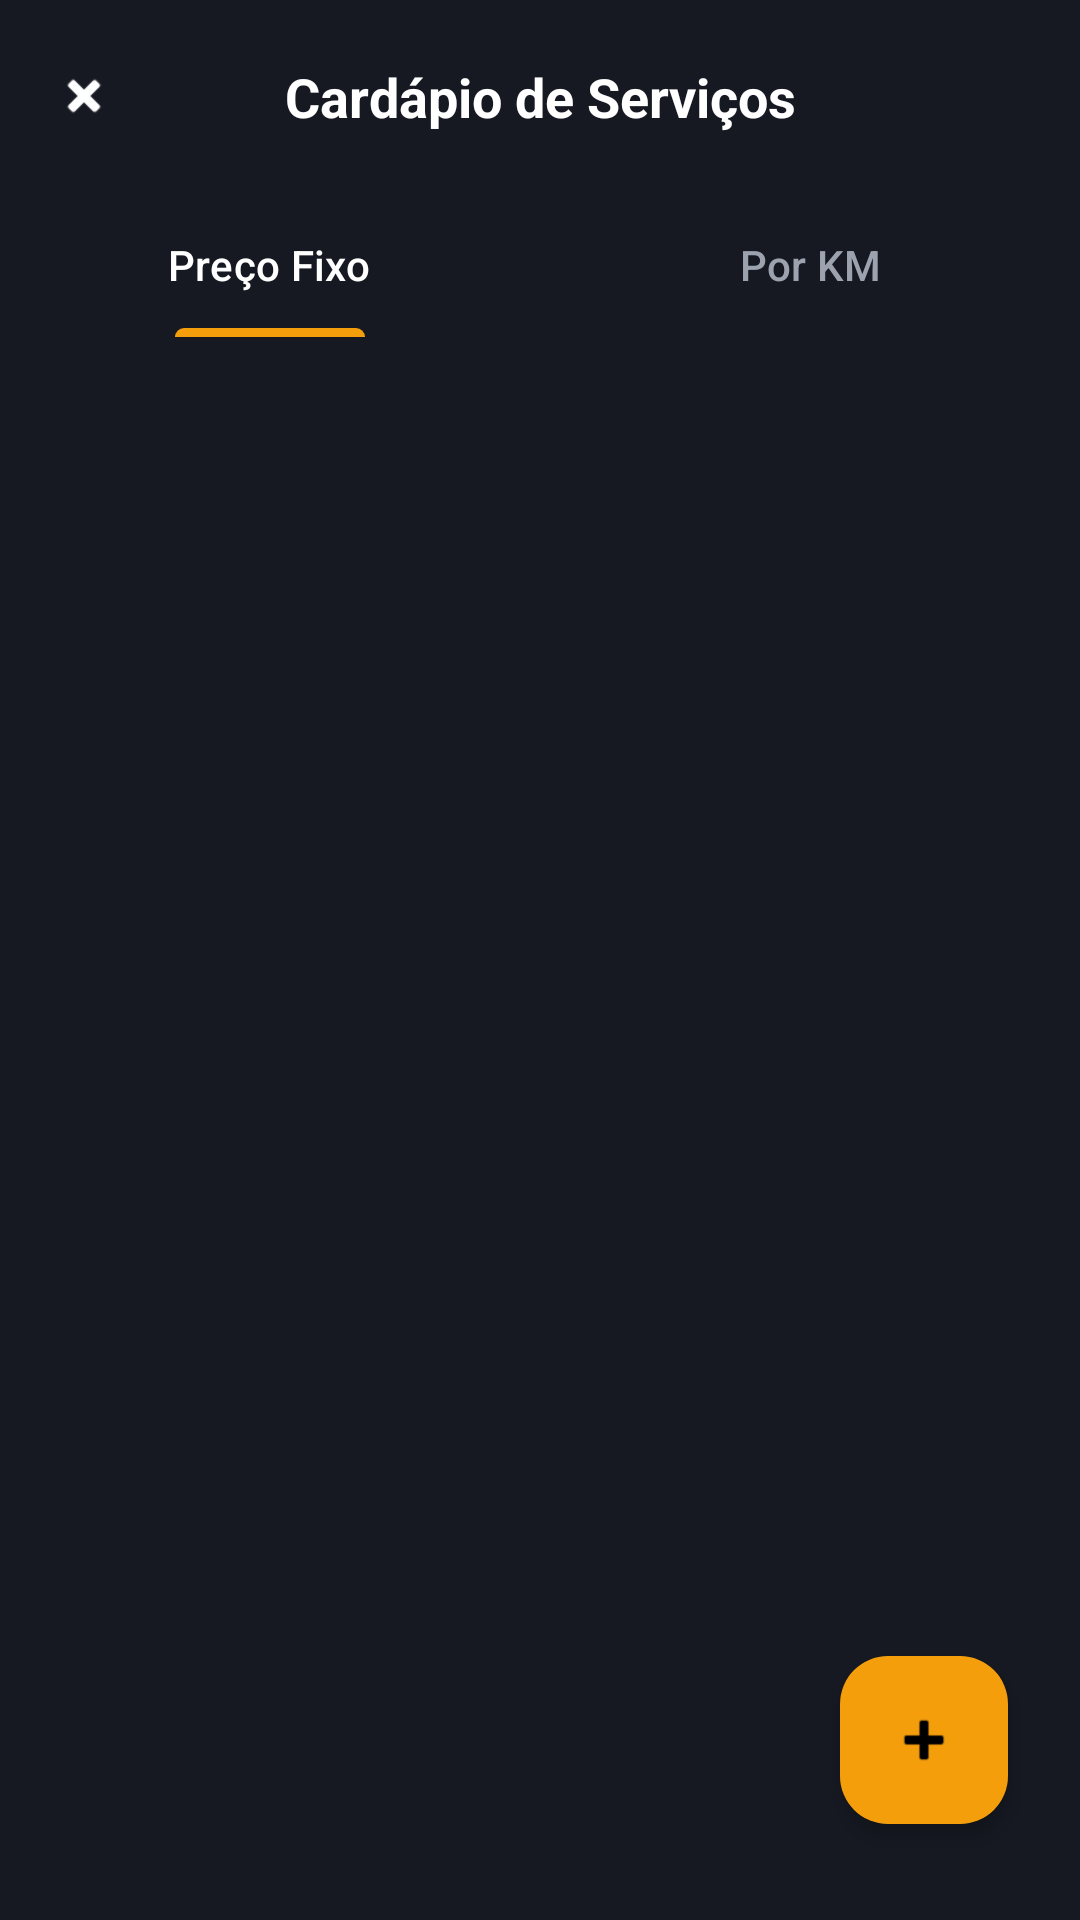

Icons on this 1080w x 1920h Android screen, each with the point to tap as (x=x, y=y):
Adicionar Serviço: (x=924, y=1740)
